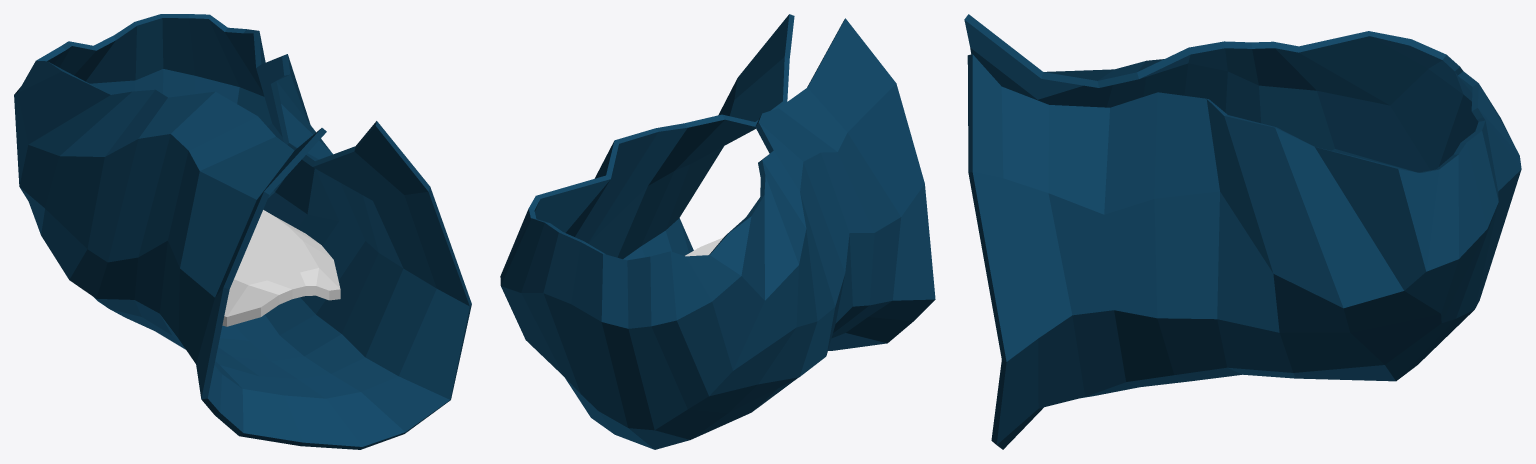
File: MaskedPlayer_GhostGame2.fbx
3 renders of one model, left to right at view 1: azimuth 30°, elevation 25°; view 2: azimuth 150°, elevation 25°; view 3: azimuth 270°, elevation 25°, orthographic. The views are drawn at different scales.
Parts seen in each view (by area): view 1: Cloak, Mask; view 2: Cloak; view 3: Cloak.
Boxes of the visible parts, left/top/right/bottom form: Cloak: left=14, top=14, right=471, bottom=449; Mask: left=222, top=210, right=340, bottom=326; Cloak: left=500, top=14, right=935, bottom=449; Cloak: left=964, top=14, right=1521, bottom=449.
Bounding box in the file's own units: 299 × 354 × 460.
